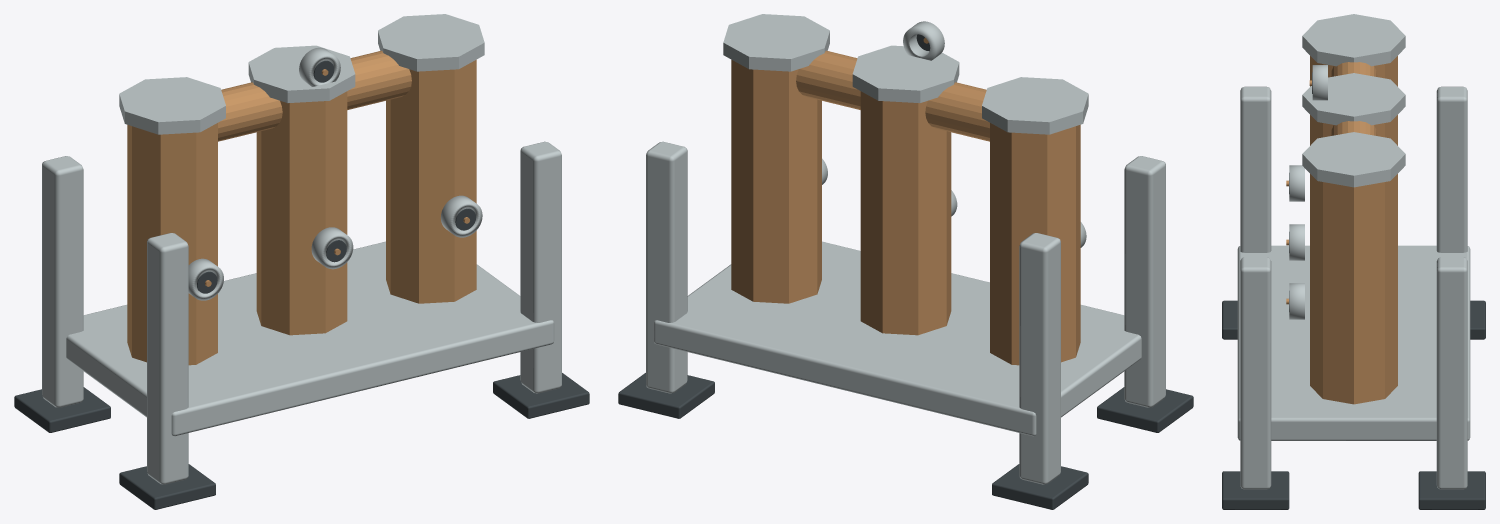
Rendered from broadcast-tower-and-relay-station-broadcast-tower-and--30532f06__30261.glb.
3 views of the same model, side by side, from view 1: azimuth 30°, elevation 25°; view 2: azimuth 150°, elevation 25°; view 3: azimuth 270°, elevation 25° (orthographic). The views are drawn at different scales.
Parts seen in each view (by area): view 1: broadcast-tower-and-relay-station-rf-combiner; view 2: broadcast-tower-and-relay-station-rf-combiner; view 3: broadcast-tower-and-relay-station-rf-combiner.
Part boxes in pixels (x1,y1,x2,y2): broadcast-tower-and-relay-station-rf-combiner: (14, 14, 589, 509); broadcast-tower-and-relay-station-rf-combiner: (618, 14, 1193, 509); broadcast-tower-and-relay-station-rf-combiner: (1222, 14, 1485, 509).
Bounding box in the file's own units: 0.91 × 0.735 × 0.5101.
